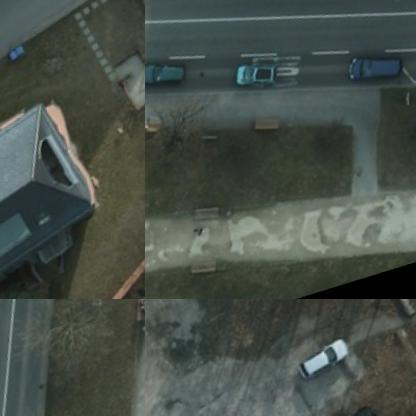car: (342, 47, 405, 98), (292, 340, 351, 384), (145, 52, 191, 98), (233, 57, 284, 96), (325, 401, 387, 415)
